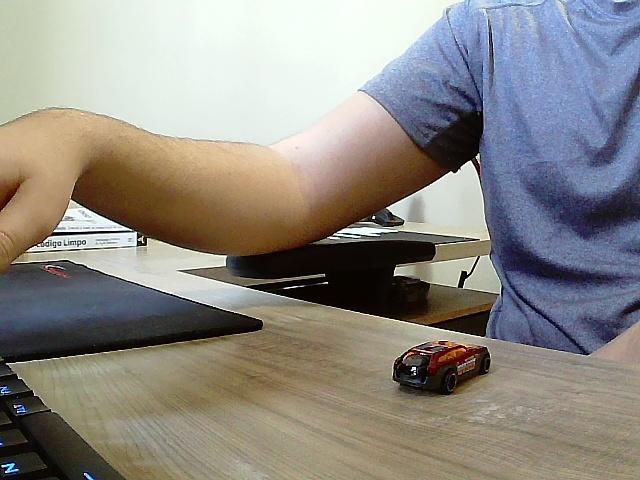Carro: (392, 342, 491, 396)
